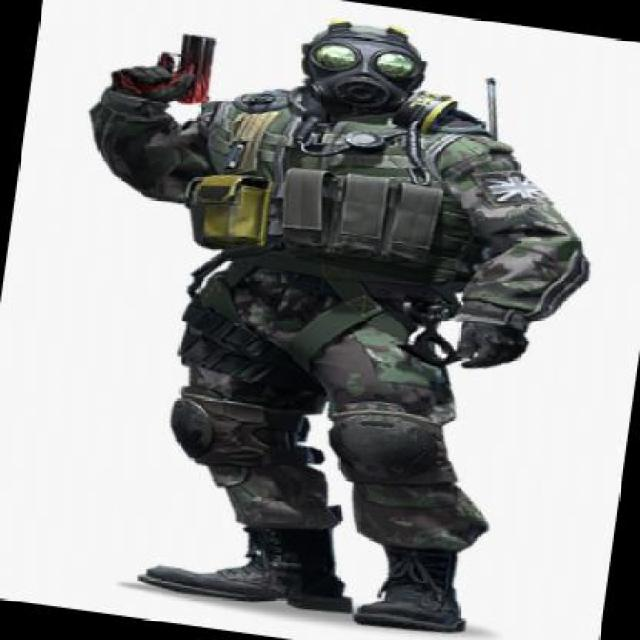MIL_Pax: (18, 0, 624, 638)
